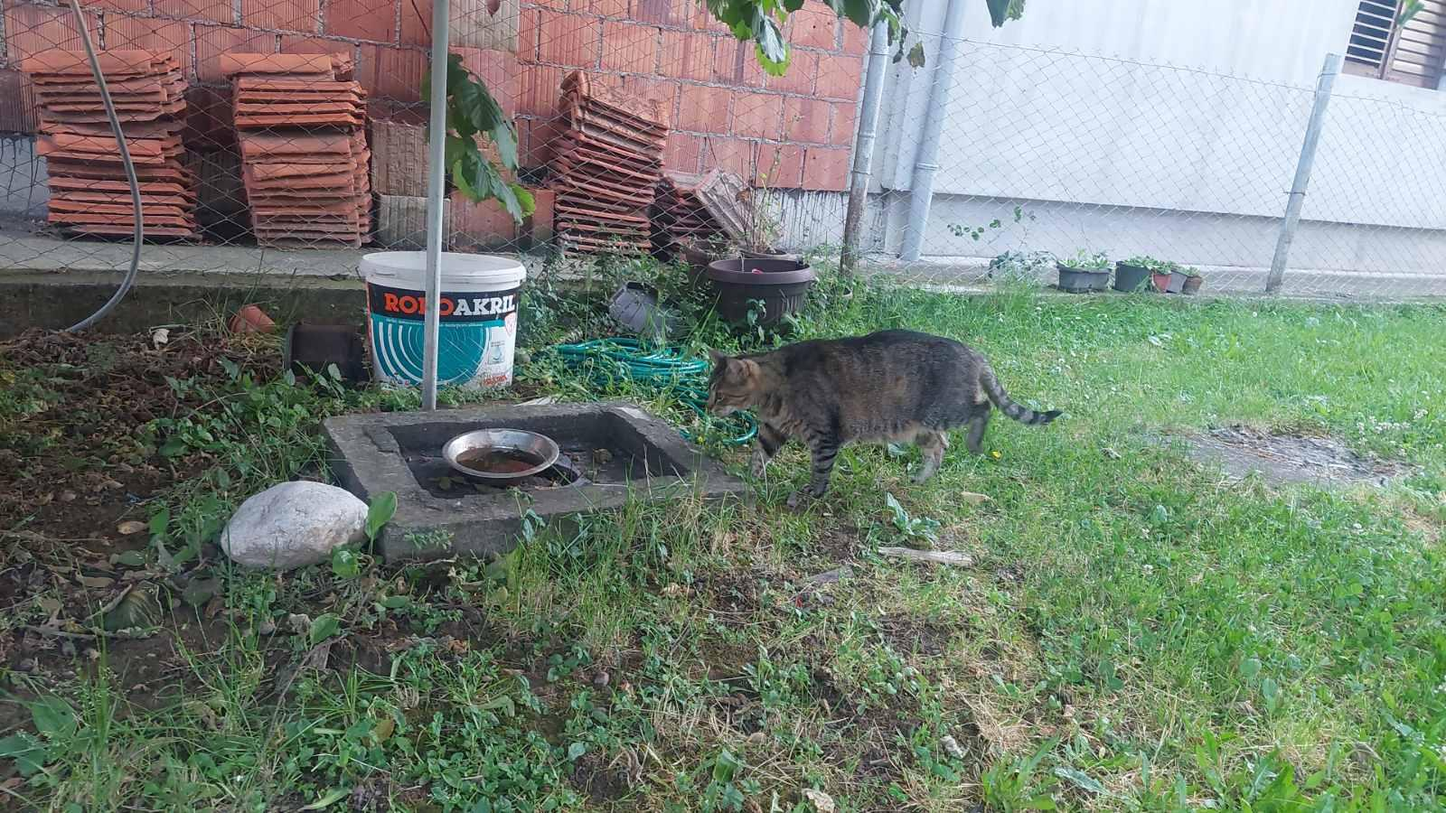macka: (705, 330, 1060, 499)
